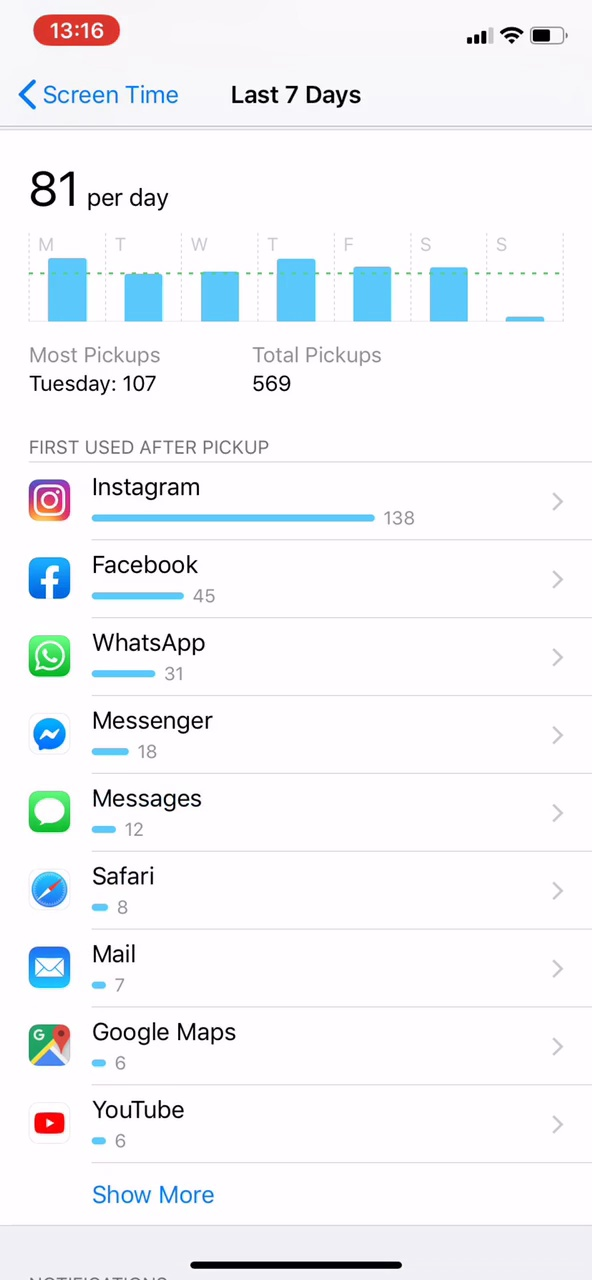pick_app: (23, 472, 457, 536), (22, 699, 278, 767), (23, 546, 270, 616), (17, 625, 261, 689), (22, 1014, 264, 1077), (20, 785, 267, 844), (26, 860, 237, 927), (22, 938, 239, 1002), (23, 1091, 247, 1153)
pick_over: (26, 338, 417, 411)
week: (221, 77, 372, 114)
